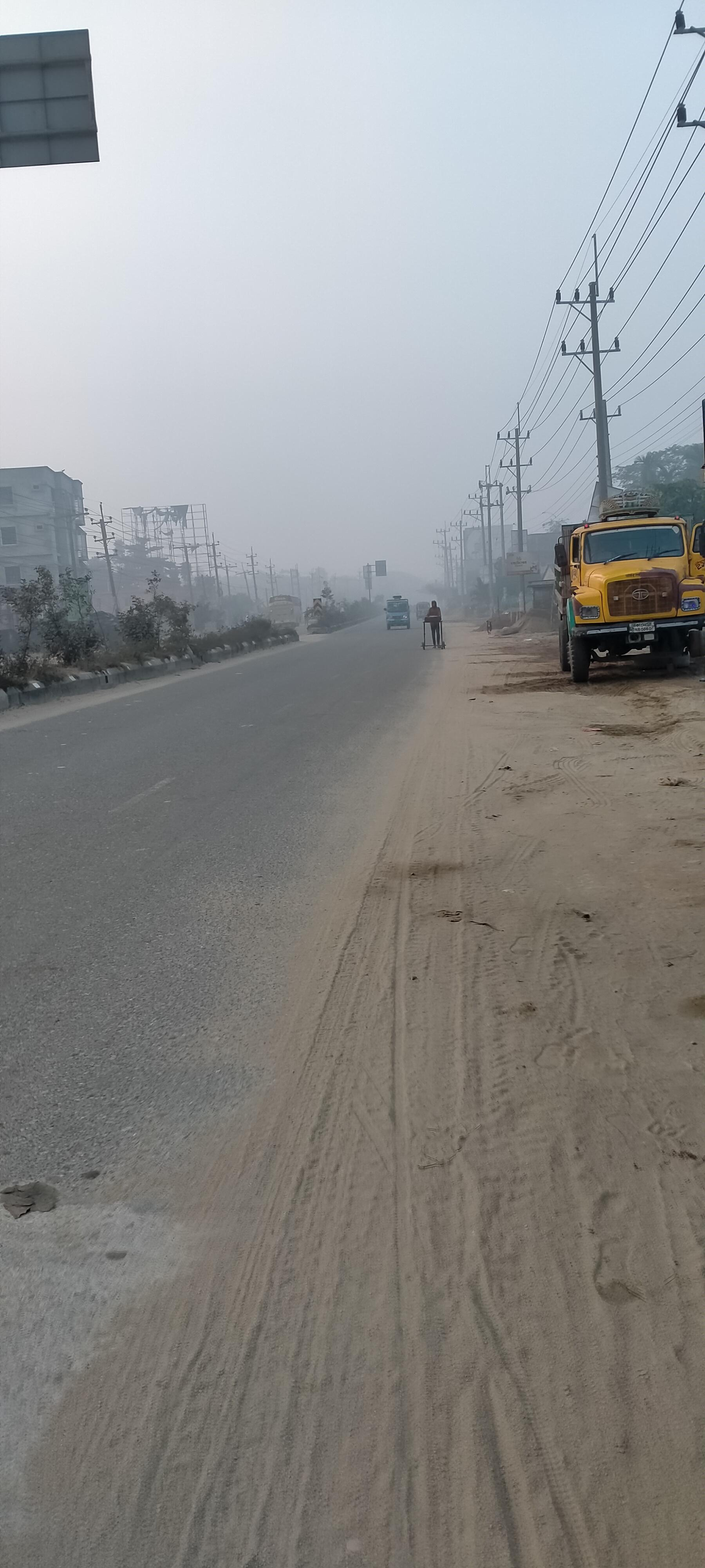Truck: (537, 493, 705, 709), (364, 575, 421, 632)
